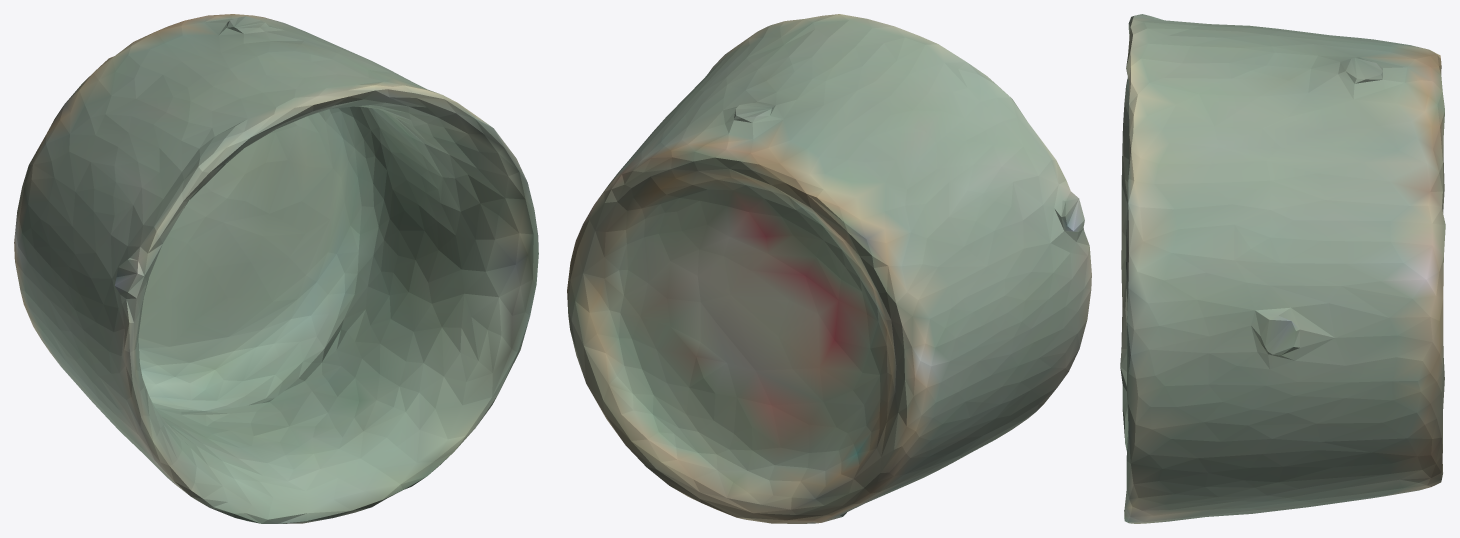
File: scan.obj
3 views of the same model, side by side, from view 1: azimuth 30°, elevation 25°; view 2: azimuth 150°, elevation 25°; view 3: azimuth 270°, elevation 25° (orthographic). The views are drawn at different scales.
Parts seen in each view (by area): view 1: scan.ply; view 2: scan.ply; view 3: scan.ply.
Part boxes in pixels (box(x1,y1,x2,y2)): scan.ply: box(14, 14, 538, 523); scan.ply: box(567, 14, 1091, 523); scan.ply: box(1120, 14, 1445, 523).
Size of the model in its own units: 0.0608 by 0.0596 by 0.0384.
